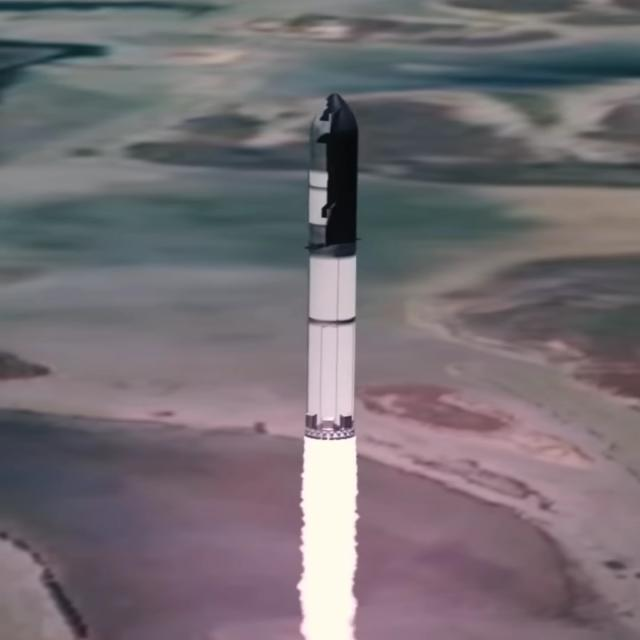missile: (305, 74, 367, 455), (32, 558, 104, 640)
